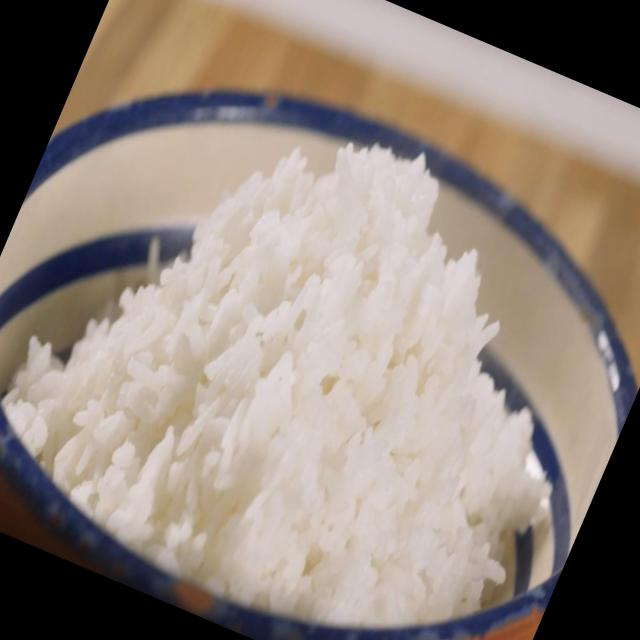rice: (2, 146, 554, 626)
